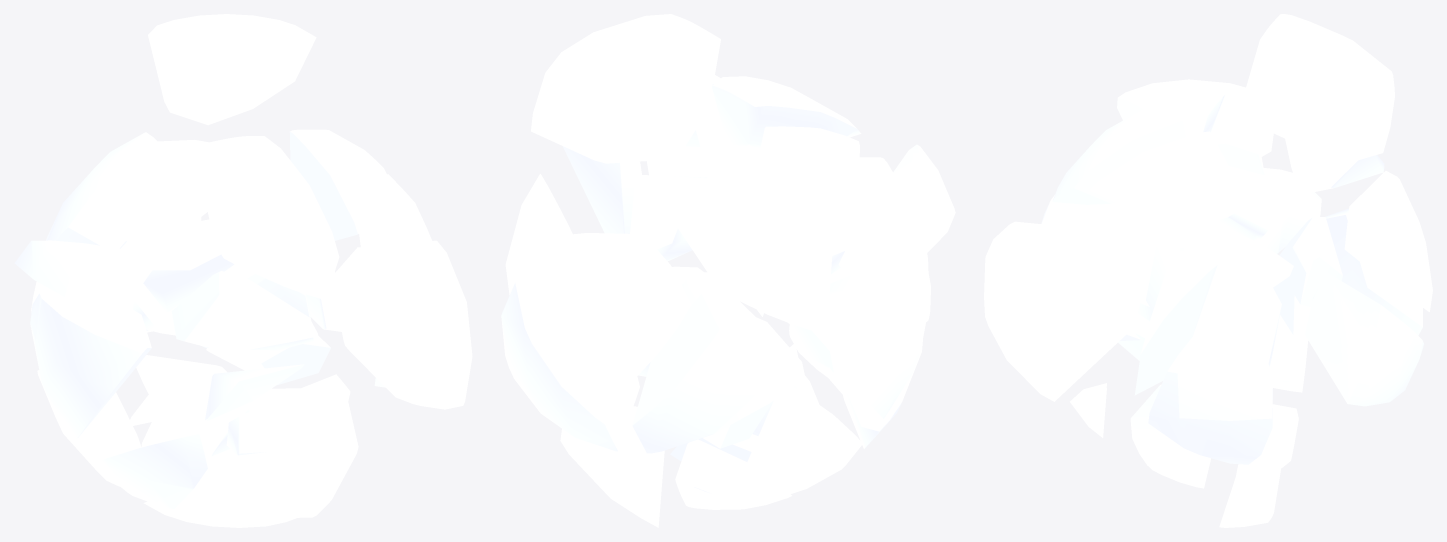
The model's file is abstractball6.2.glb.
3 renders of one model, left to right at view 1: azimuth 30°, elevation 25°; view 2: azimuth 150°, elevation 25°; view 3: azimuth 270°, elevation 25°, orthographic. The views are drawn at different scales.
Parts seen in each view (by area): view 1: Voronoi_Fracture.6; view 2: Voronoi_Fracture.6; view 3: Voronoi_Fracture.6.
Part boxes in pixels (left/top/right/bottom): Voronoi_Fracture.6: left=14, top=14, right=472, bottom=527; Voronoi_Fracture.6: left=501, top=14, right=955, bottom=527; Voronoi_Fracture.6: left=984, top=14, right=1432, bottom=527.
Size of what is drawn, in the model's own units: 3.27 by 3.96 by 3.4.
1 material, 1 textured.
